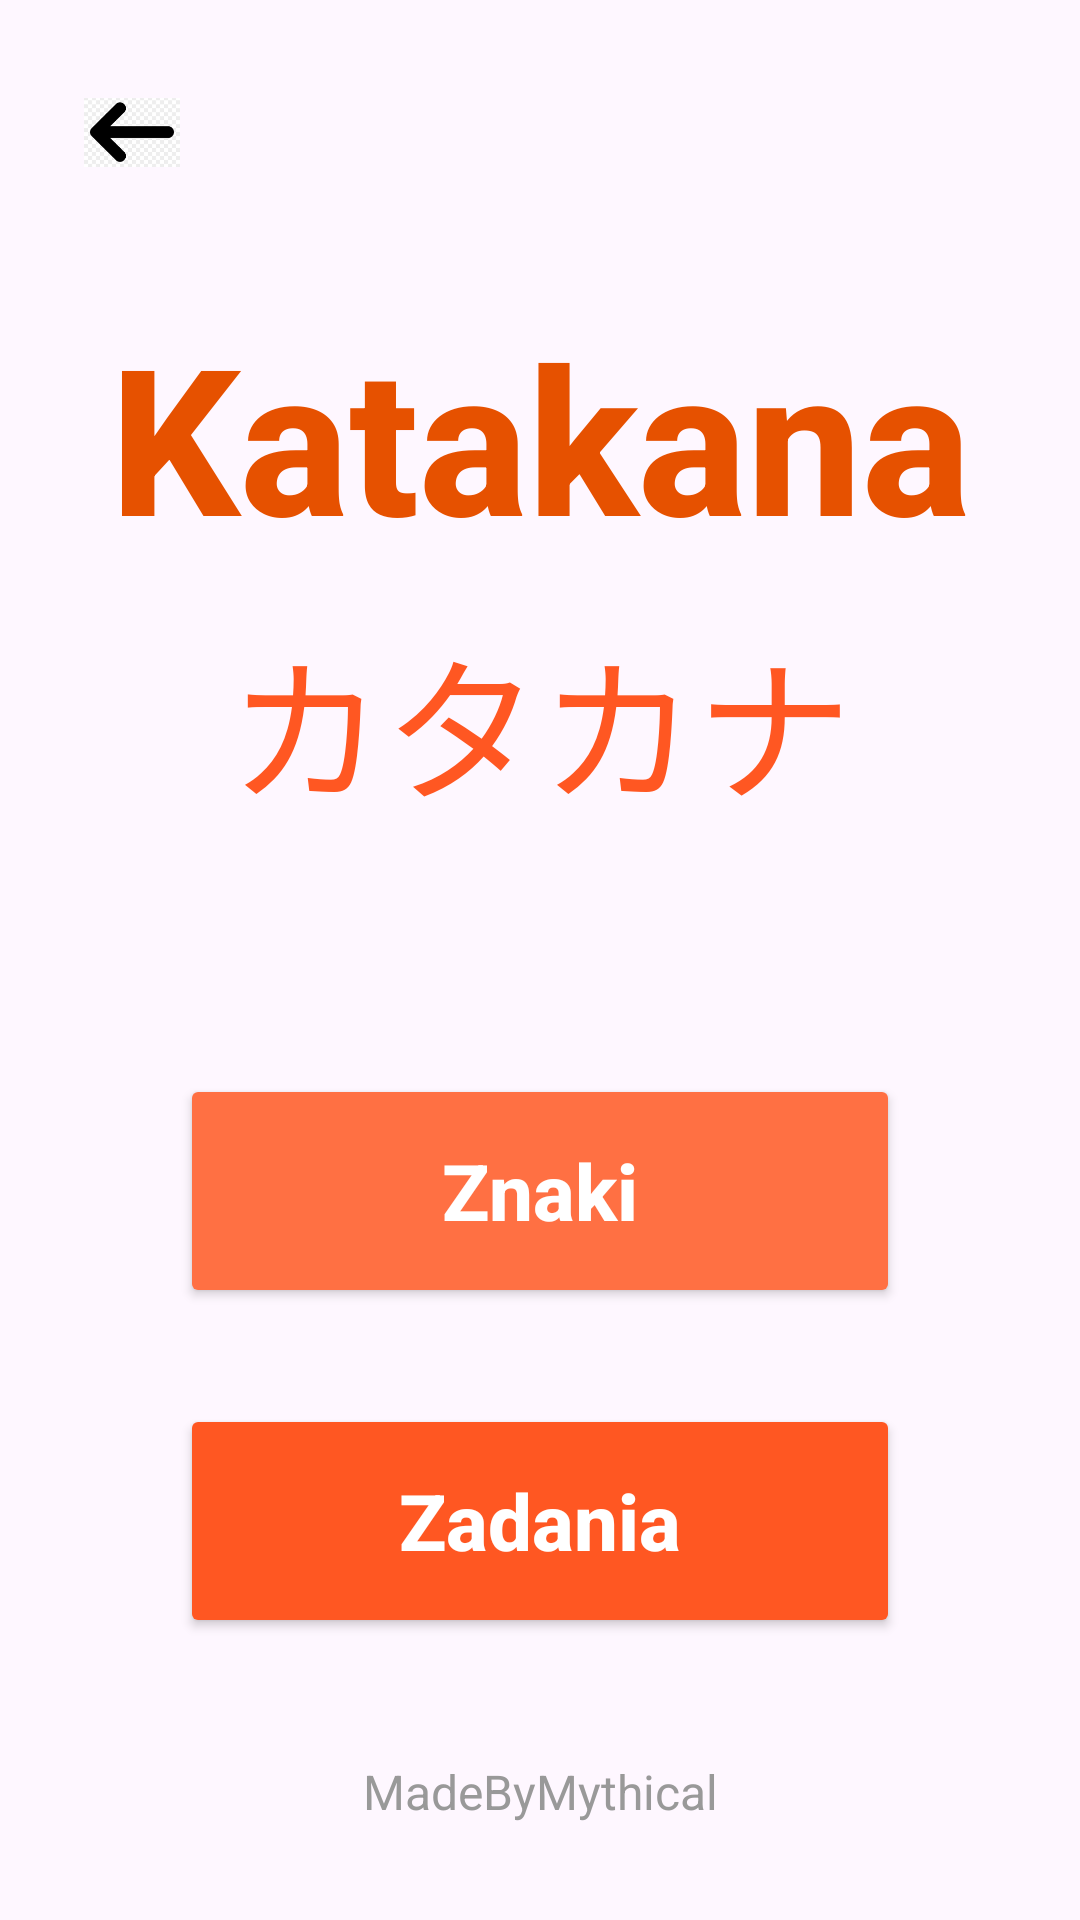

Locate icon controls on the screen. Image size 1080 × 1920, boxes as (x1, y1, x2, y2).
Powrót: (90, 102, 174, 162)
